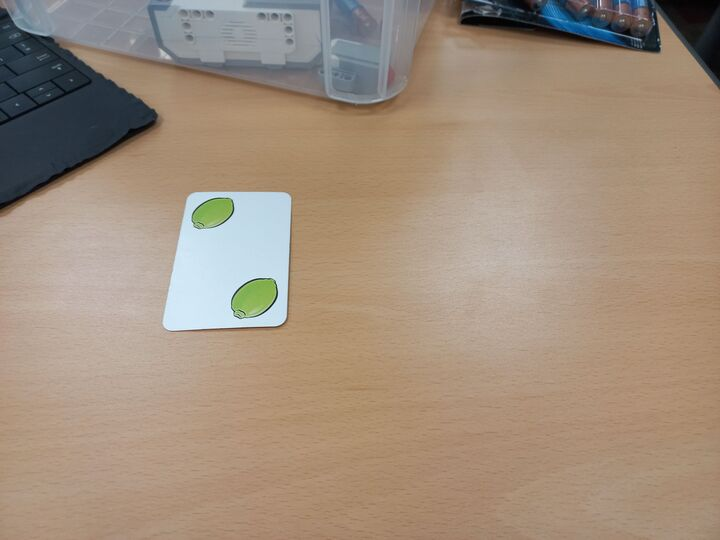lime2: (159, 190, 292, 330)
